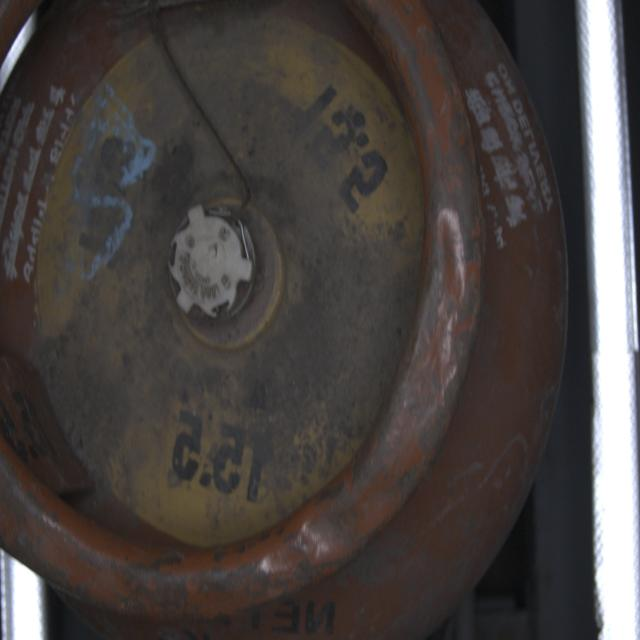Cap: (169, 206, 256, 327)
